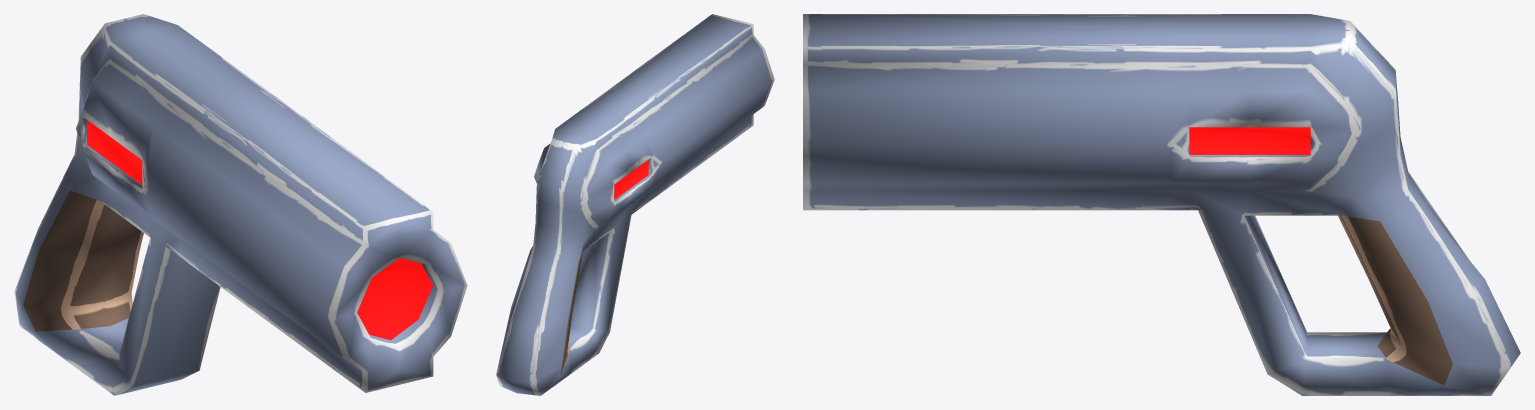
Rendered from Pistol.fbx.
3 renders of one model, left to right at view 1: azimuth 30°, elevation 25°; view 2: azimuth 150°, elevation 25°; view 3: azimuth 270°, elevation 25°, orthographic. The views are drawn at different scales.
Visible parts, largest first — view 1: Cube; view 2: Cube; view 3: Cube.
Part boxes in pixels (left/top/right/bottom): Cube: left=14, top=14, right=467, bottom=395; Cube: left=496, top=14, right=774, bottom=395; Cube: left=803, top=14, right=1520, bottom=395.
Bounding box in the file's own units: 6.76 × 16.67 × 31.06.
